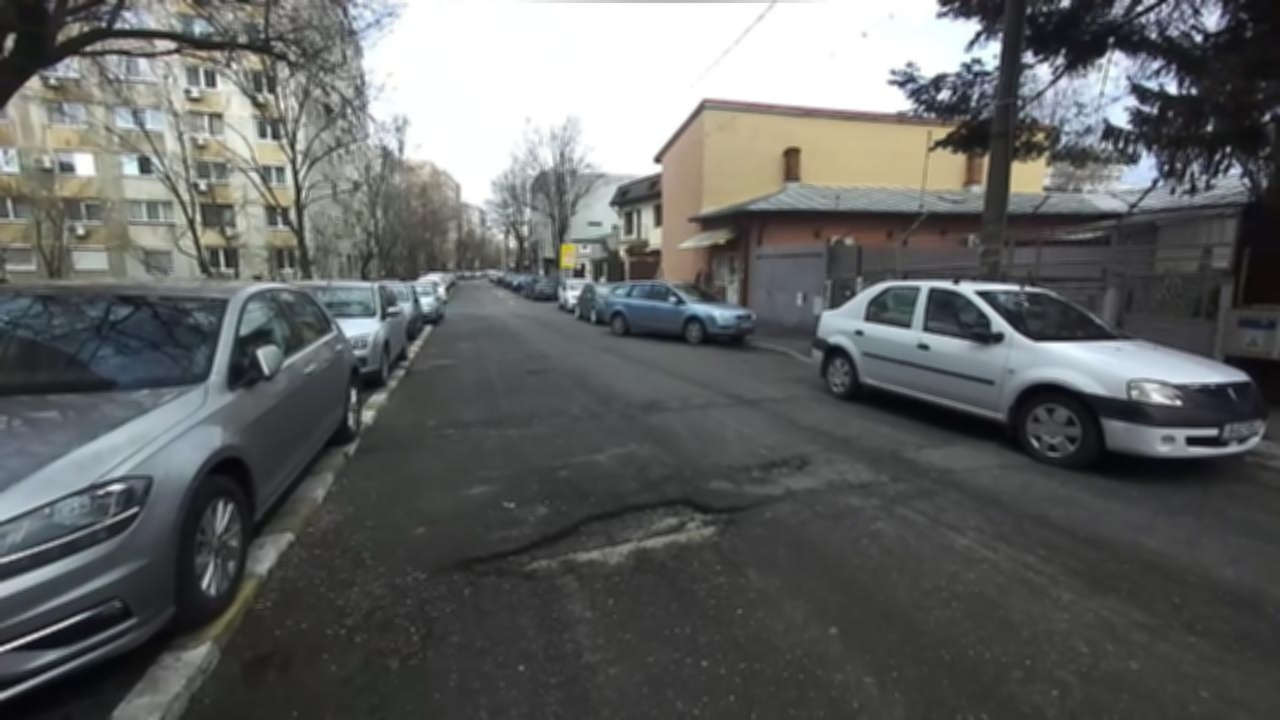pothole: (450, 493, 779, 584), (738, 449, 817, 480)
